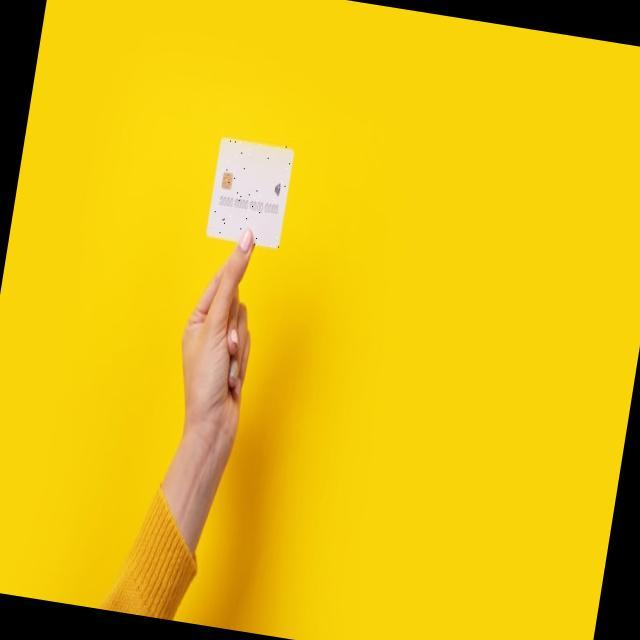payment_card: (205, 136, 294, 249)
